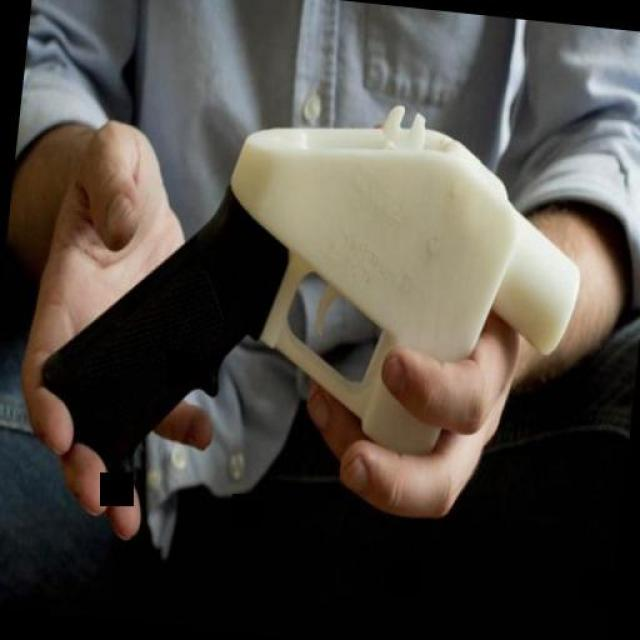gun: (28, 69, 596, 540)
